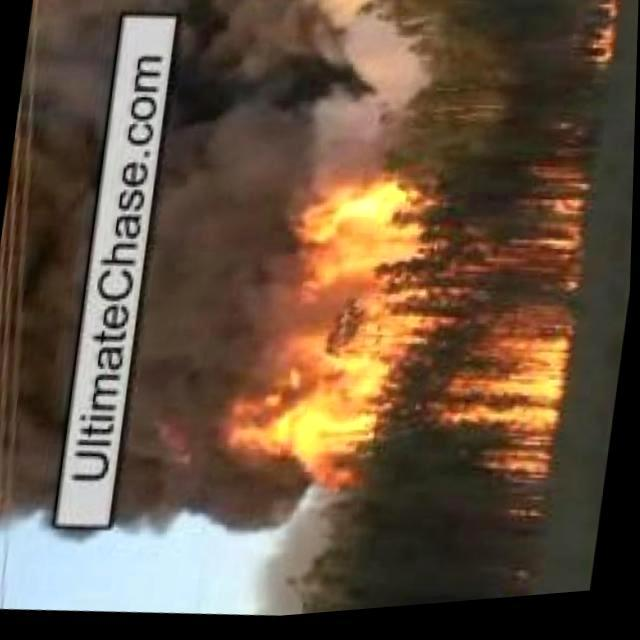fire: (220, 141, 596, 505), (584, 3, 620, 81)
